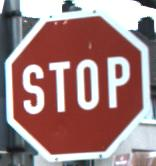Stop sign: (0, 0, 155, 165)
